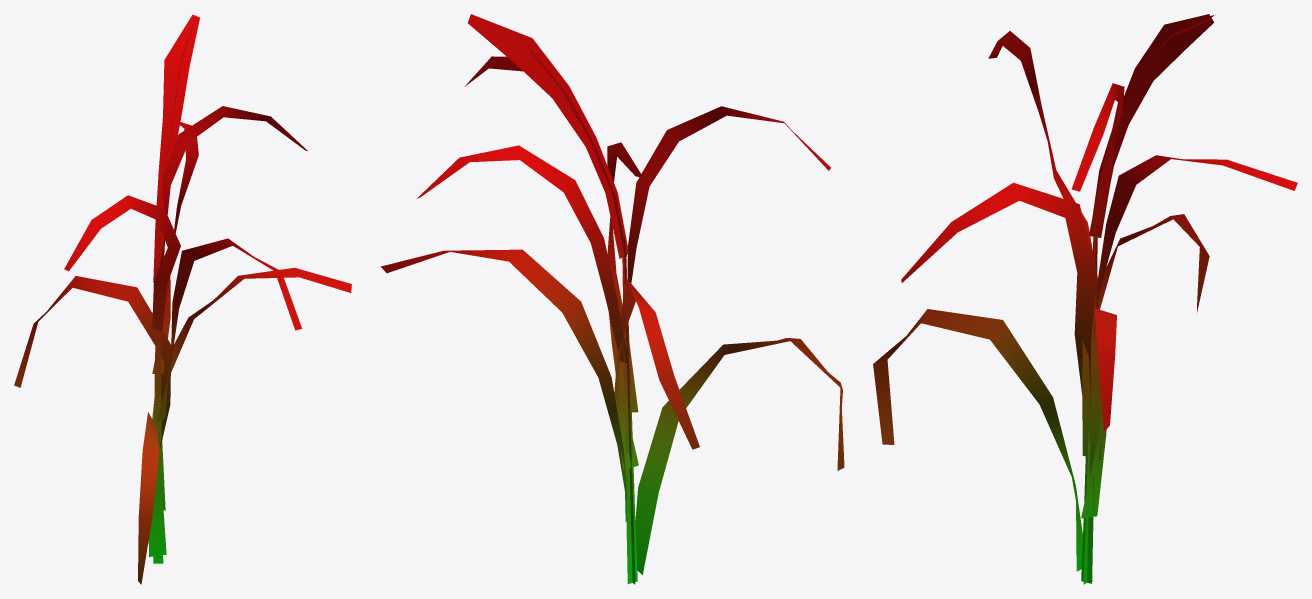
The model's file is Great Brome_LOD3_Var6_tjugaikia.fbx.
3 renders of one model, left to right at view 1: azimuth 30°, elevation 25°; view 2: azimuth 150°, elevation 25°; view 3: azimuth 270°, elevation 25°, orthographic. The views are drawn at different scales.
Visible parts, largest first — view 1: _cb88_Var6_LOD3; view 2: _cb88_Var6_LOD3; view 3: _cb88_Var6_LOD3.
Boxes of the visible parts, box(x1,y1,x2,y2) form: _cb88_Var6_LOD3: box(14, 14, 351, 584); _cb88_Var6_LOD3: box(381, 14, 844, 584); _cb88_Var6_LOD3: box(873, 14, 1297, 584).
Bounding box in the file's own units: 44.13 × 62.49 × 38.64.
